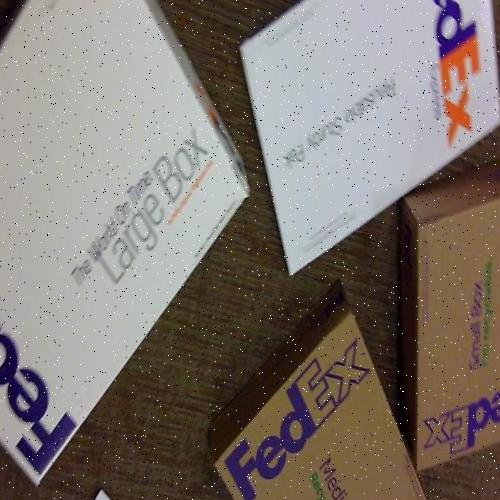Amazon: (0, 0, 241, 458), (255, 0, 500, 261), (199, 316, 407, 500), (414, 177, 500, 471)
